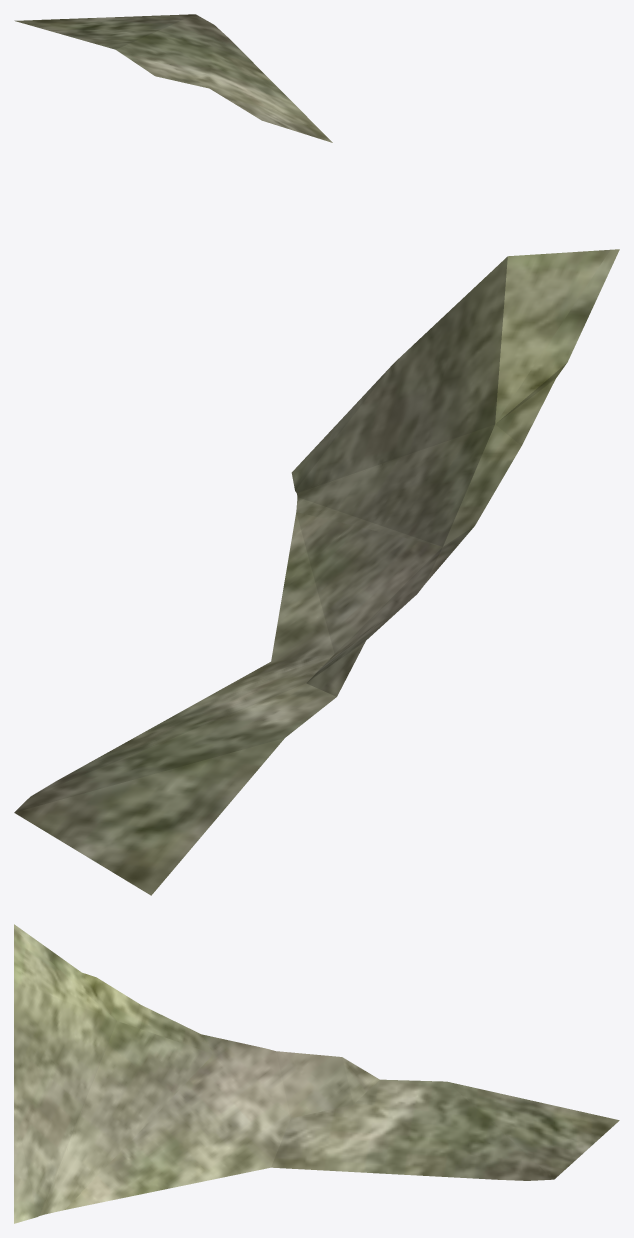
3 renders of one model, top to bottom at view 1: azimuth 30°, elevation 25°; view 2: azimuth 150°, elevation 25°; view 3: azimuth 270°, elevation 25°, orthographic. The views are drawn at different scales.
Bounding box in the file's own units: 1.13 × 0.994 × 2.78.
1 material, 1 textured.
